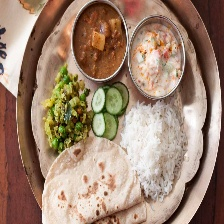roti: (41, 137, 147, 223)
